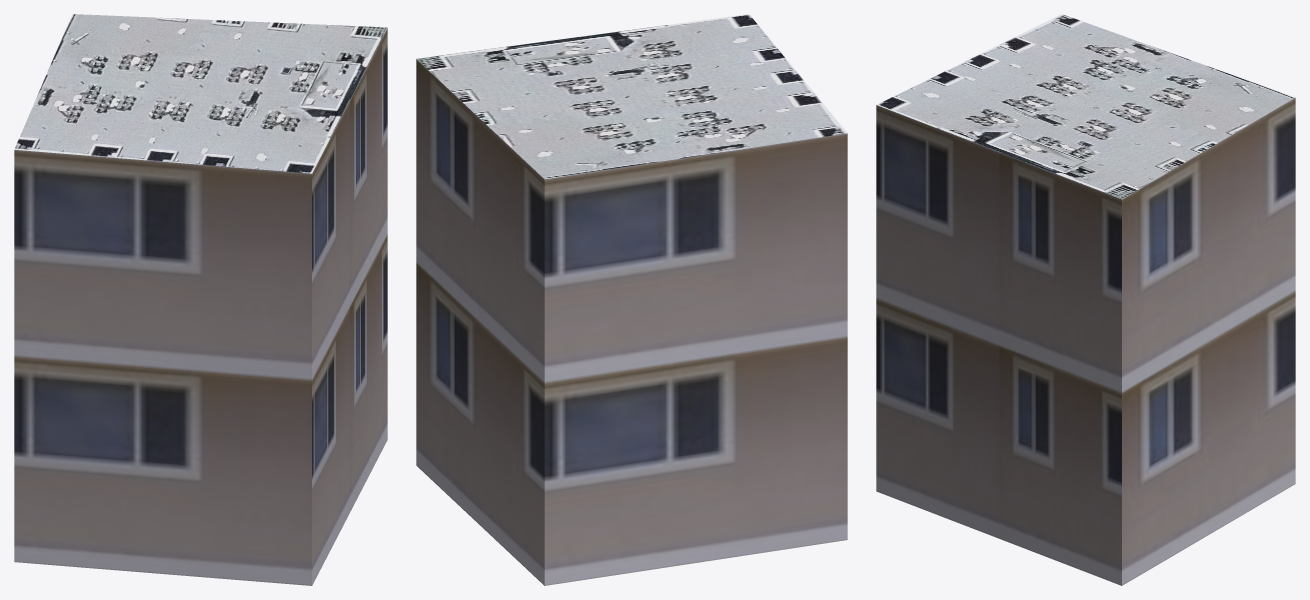
File: ResTex__586.fbx
The picture shows the model from 3 angles, left to right: view 1: azimuth 30°, elevation 25°; view 2: azimuth 150°, elevation 25°; view 3: azimuth 270°, elevation 25°; orthographic projection. The views are drawn at different scales.
Visible parts, largest first — view 1: CityEngineMaterial_21_m, CityEngineMaterial_m; view 2: CityEngineMaterial_21_m, CityEngineMaterial_m; view 3: CityEngineMaterial_21_m, CityEngineMaterial_m.
Part boxes in pixels (bbox=[...]): CityEngineMaterial_21_m: bbox=[14, 28, 387, 585]; CityEngineMaterial_m: bbox=[14, 14, 387, 173]; CityEngineMaterial_21_m: bbox=[416, 59, 847, 585]; CityEngineMaterial_m: bbox=[416, 14, 847, 179]; CityEngineMaterial_21_m: bbox=[876, 97, 1295, 585]; CityEngineMaterial_m: bbox=[877, 14, 1294, 199].
Bounding box in the file's own units: 6.18 × 6 × 5.9.
2 materials, 2 textured.
